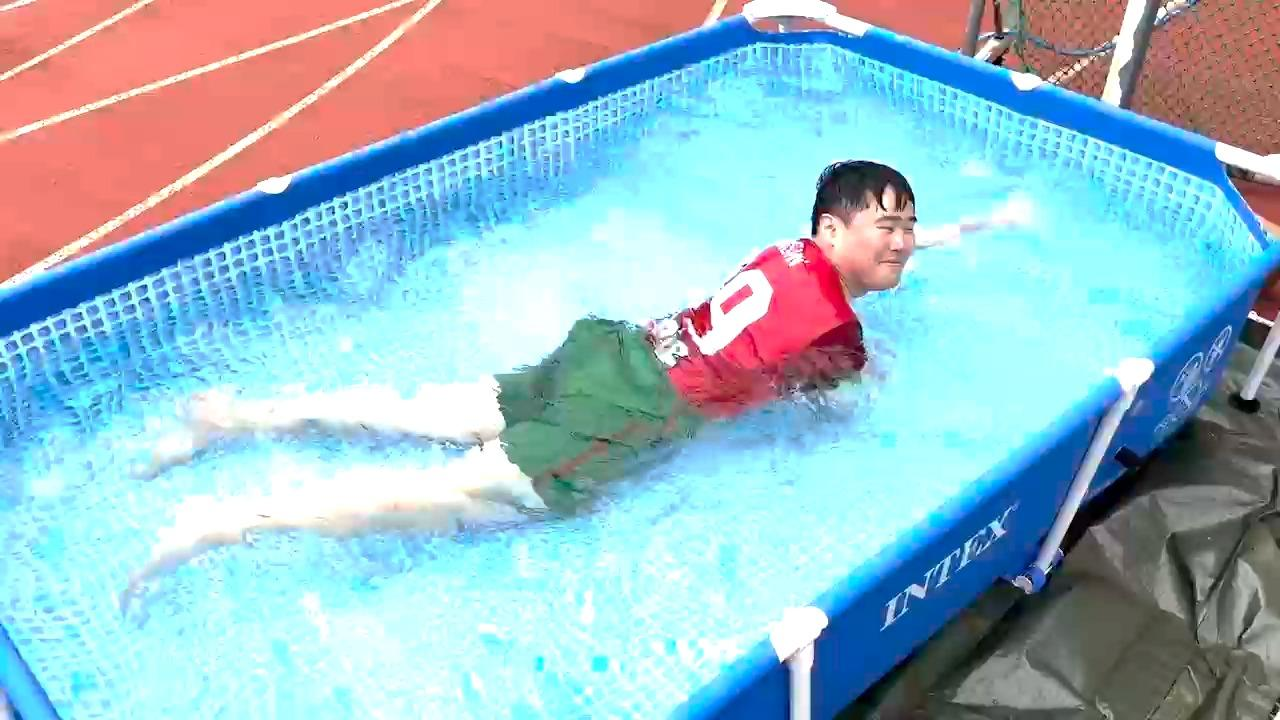Swimming: (71, 149, 1013, 630)
